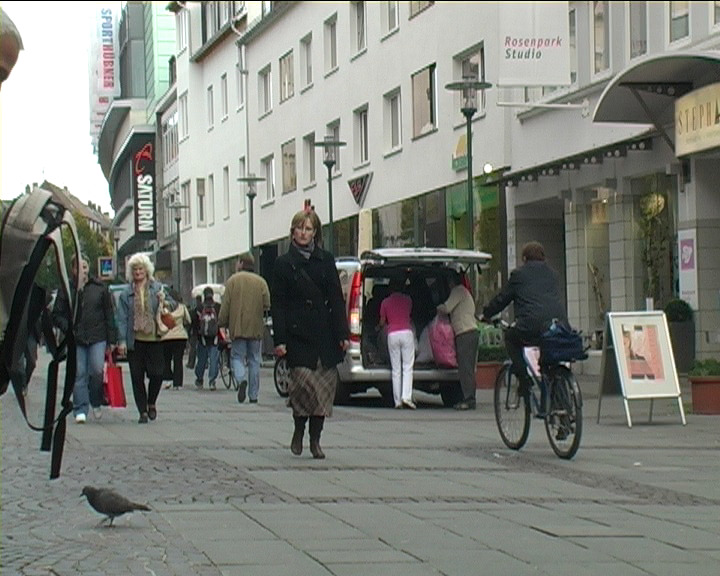undeflect: (280, 213, 336, 291)
